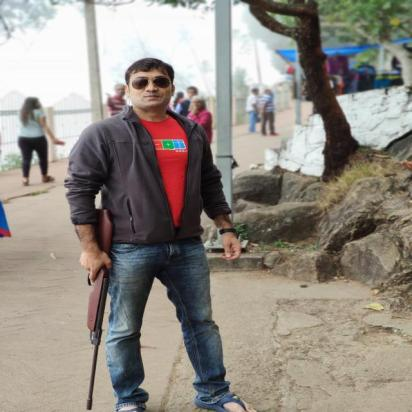Gun: (85, 208, 116, 412)
